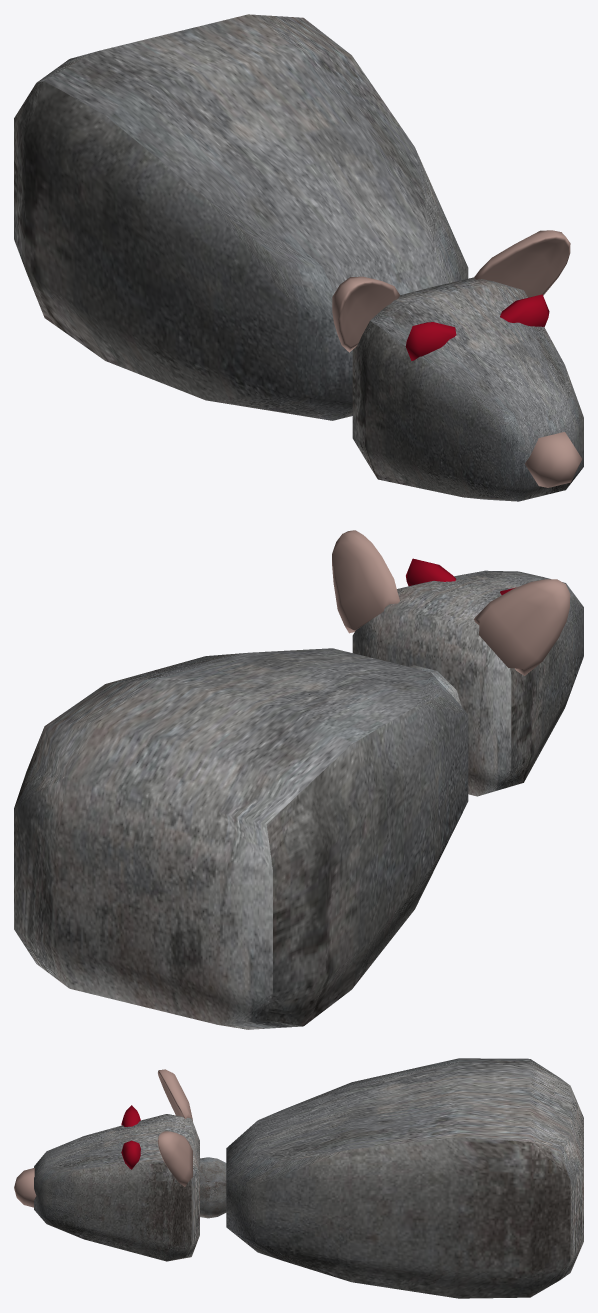
File: Rat_v2.fbx
The picture shows the model from 3 angles, top to bottom: view 1: azimuth 30°, elevation 25°; view 2: azimuth 150°, elevation 25°; view 3: azimuth 270°, elevation 25°; orthographic projection. The views are drawn at different scales.
Parts seen in each view (by area): view 1: polySurface11; view 2: polySurface11; view 3: polySurface11.
Part boxes in pixels (left/top/right/bottom): polySurface11: left=14, top=14, right=583, bottom=501; polySurface11: left=14, top=530, right=583, bottom=1029; polySurface11: left=14, top=1058, right=583, bottom=1298.
Size of the model in its own units: 1.8 by 1.63 by 4.56.
Materials: 3 (1 with a texture image).
